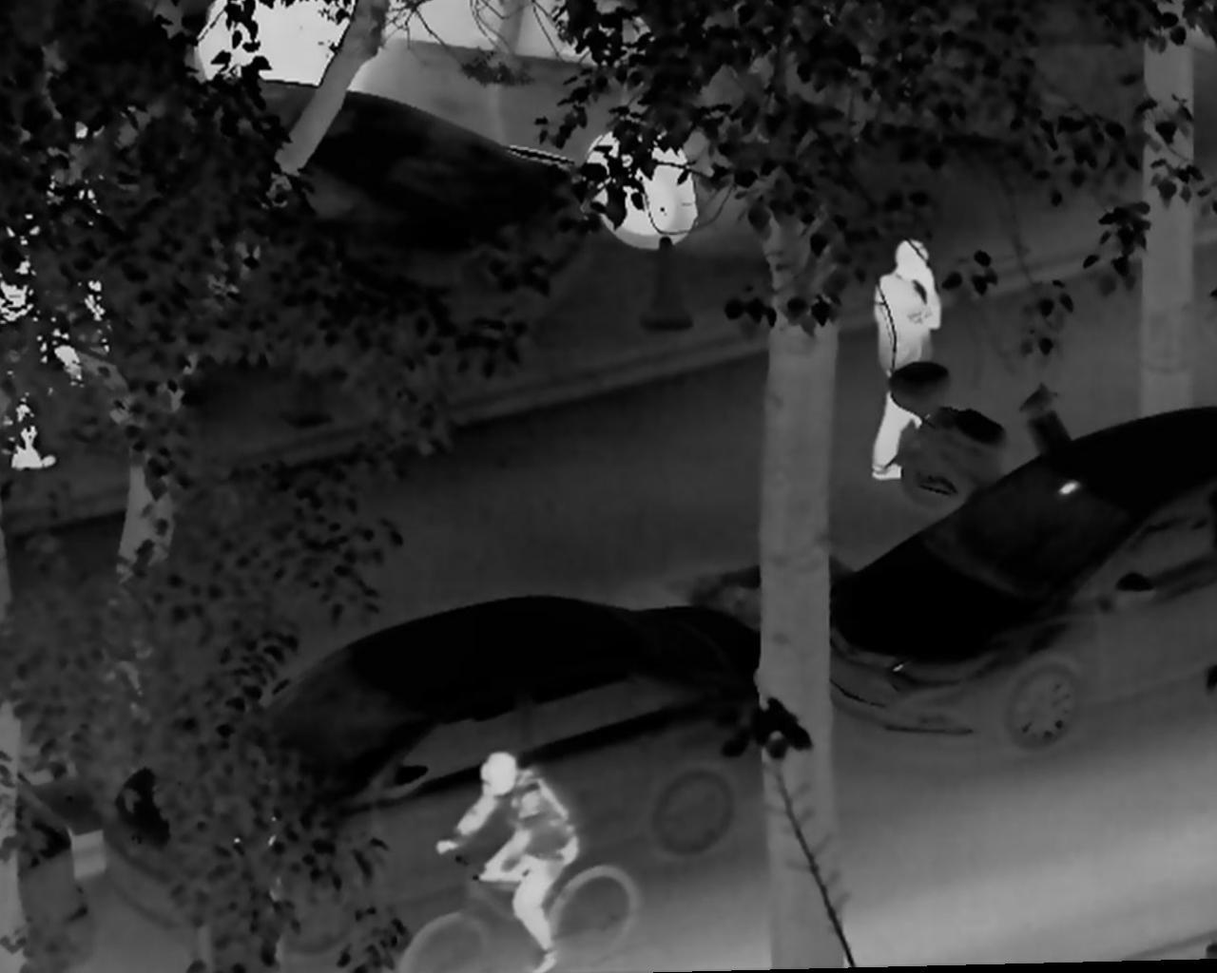person: (429, 748, 581, 973), (36, 146, 164, 389), (868, 226, 952, 486)
